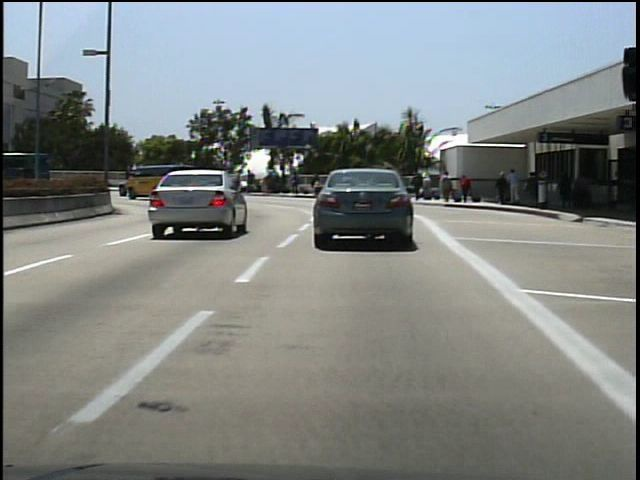person: (573, 168, 593, 217), (555, 164, 574, 212), (507, 166, 524, 208), (524, 169, 540, 208), (459, 173, 476, 209), (494, 170, 510, 207), (442, 169, 457, 204), (410, 169, 425, 202), (121, 162, 136, 192), (185, 169, 202, 194)
